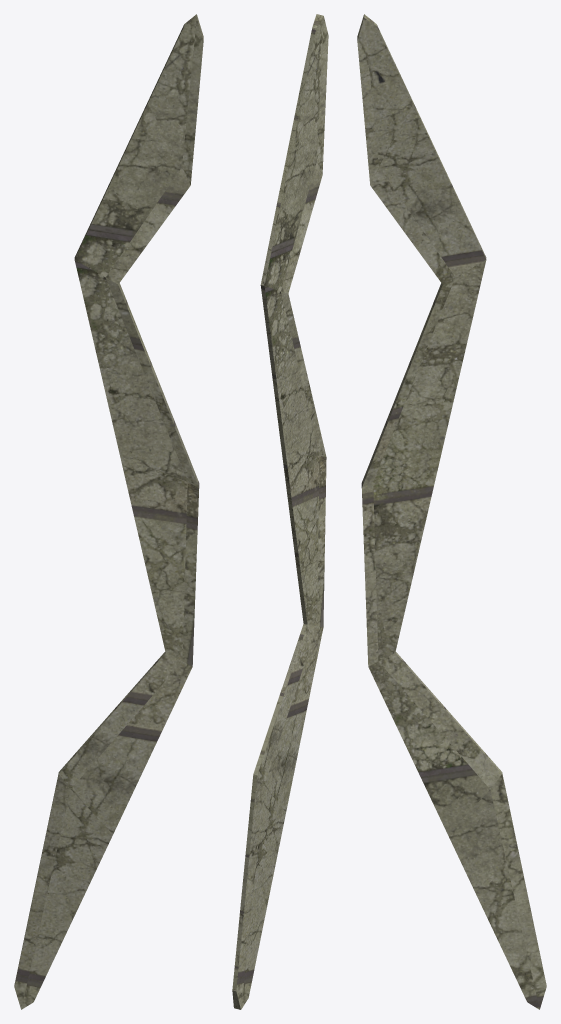
Rendered from SM_Corridor_06_rotating.fbx.
3 renders of one model, left to right at view 1: azimuth 90°, elevation 25°; view 2: azimuth 150°, elevation 25°; view 3: azimuth 270°, elevation 25°, orthographic. The views are drawn at different scales.
Parts seen in each view (by area): view 1: SM_Corridor_06_rotating; view 2: SM_Corridor_06_rotating; view 3: SM_Corridor_06_rotating.
Part boxes in pixels (box(x1,y1,x2,y2)): SM_Corridor_06_rotating: box(14, 14, 203, 1009); SM_Corridor_06_rotating: box(232, 14, 328, 1009); SM_Corridor_06_rotating: box(357, 14, 546, 1009).
Size of the model in its own units: 53.51 by 4543 by 785.
